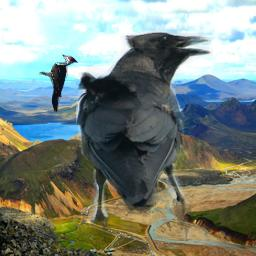Crow: (76, 25, 213, 243)
Woodpecker: (39, 54, 78, 112)
